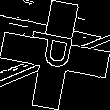P_E: (27, 32, 83, 78)
